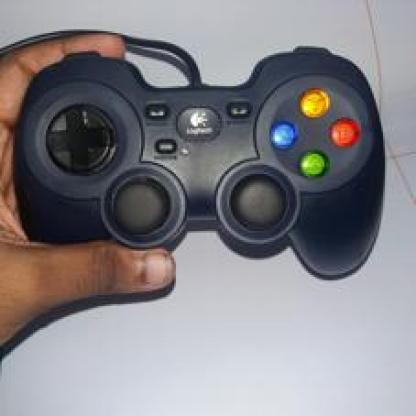gamepad: (13, 19, 381, 296)
